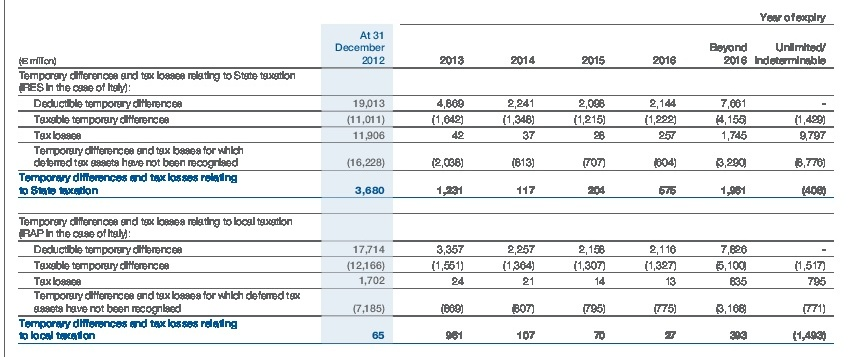table: (0, 0, 849, 357)
